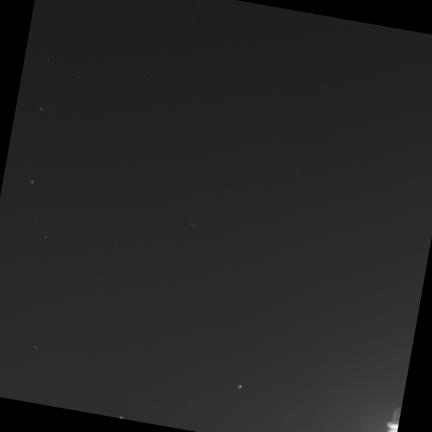Shahed: (189, 222, 194, 227)
